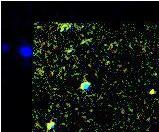star: (137, 76, 159, 106)
